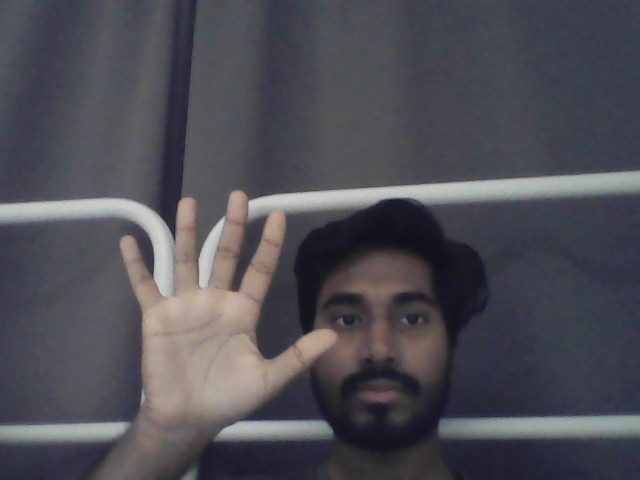hello: (118, 188, 339, 433)
